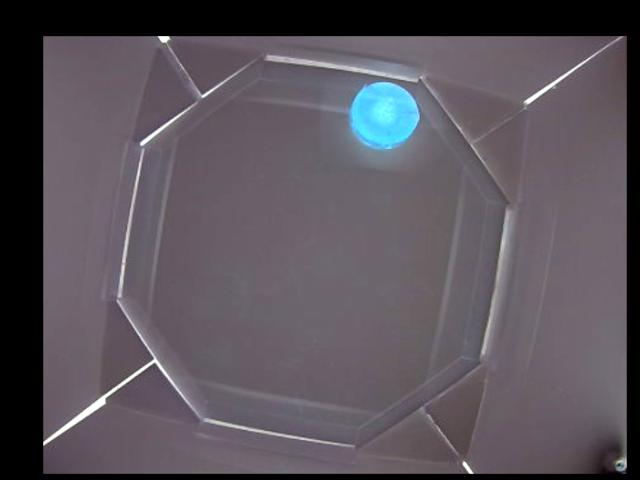Carrot: (349, 82, 419, 147)
